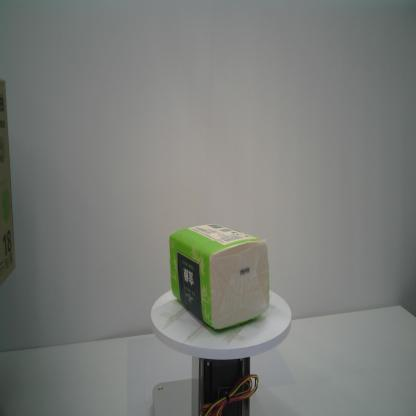Tissue: (168, 223, 271, 330)
